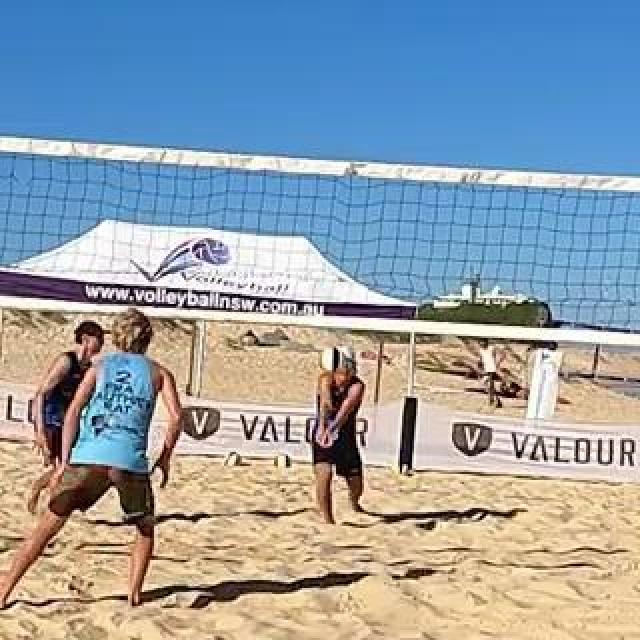volleyball: (321, 345, 347, 373), (273, 454, 291, 470), (392, 461, 410, 477), (224, 451, 240, 467)
